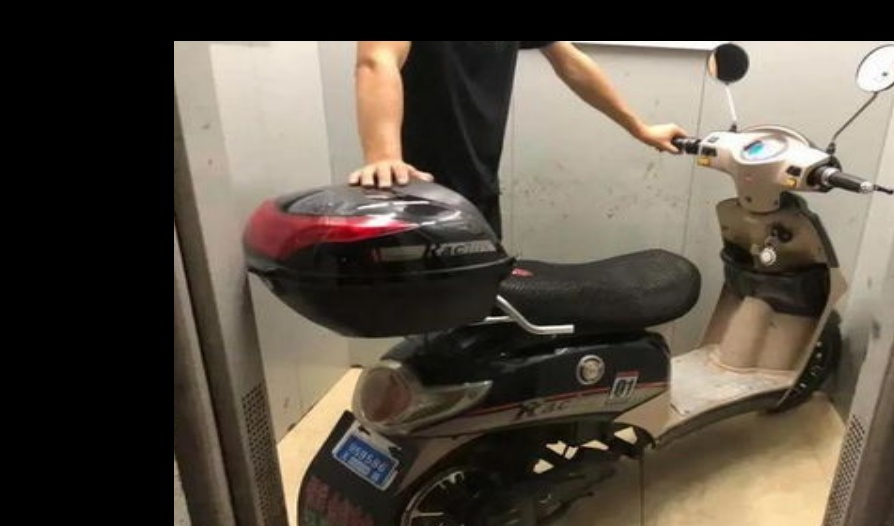ebike: (245, 41, 890, 523)
person: (346, 42, 683, 190)
